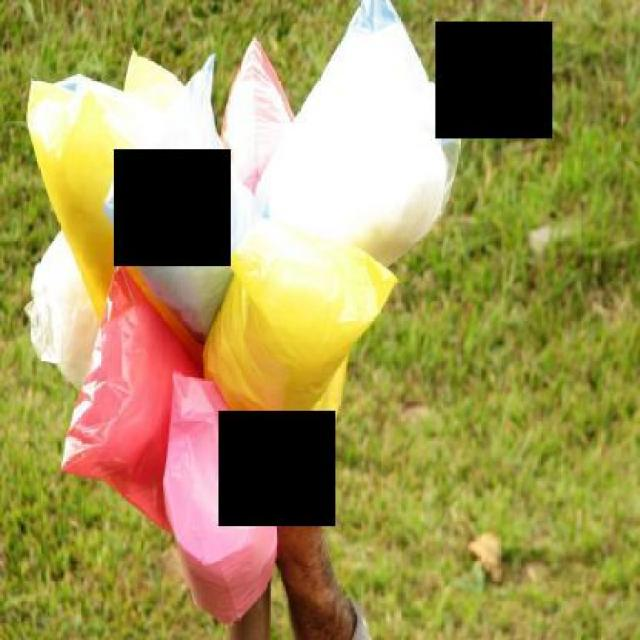plastic bag: (17, 0, 481, 623)
